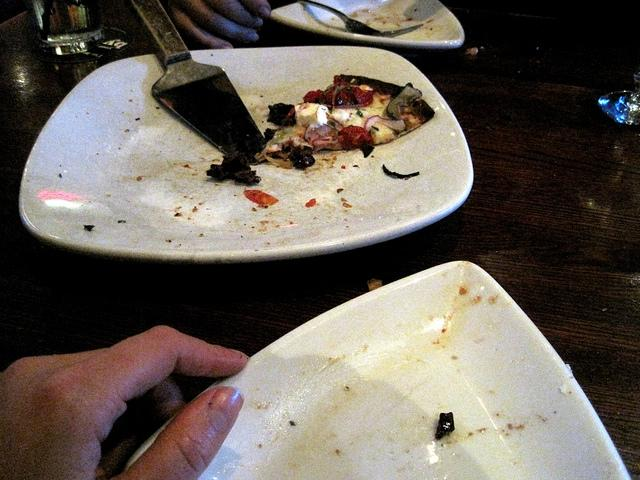tomato: (336, 125, 374, 150), (243, 190, 280, 205), (352, 86, 376, 104), (303, 90, 324, 104), (305, 198, 316, 208)
